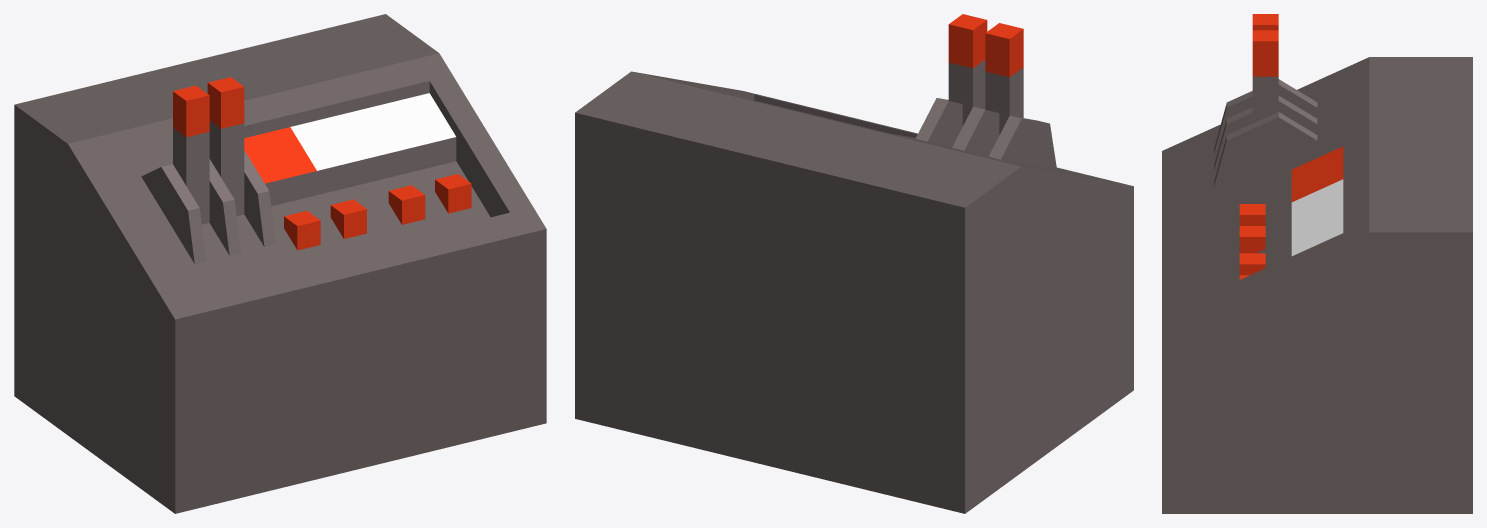
The model's file is obj_strange_machine_1_0.obj.
3 views of the same model, side by side, from view 1: azimuth 30°, elevation 25°; view 2: azimuth 150°, elevation 25°; view 3: azimuth 270°, elevation 25° (orthographic). The views are drawn at different scales.
Size of the model in its own units: 1 by 0.9375 by 0.75.
